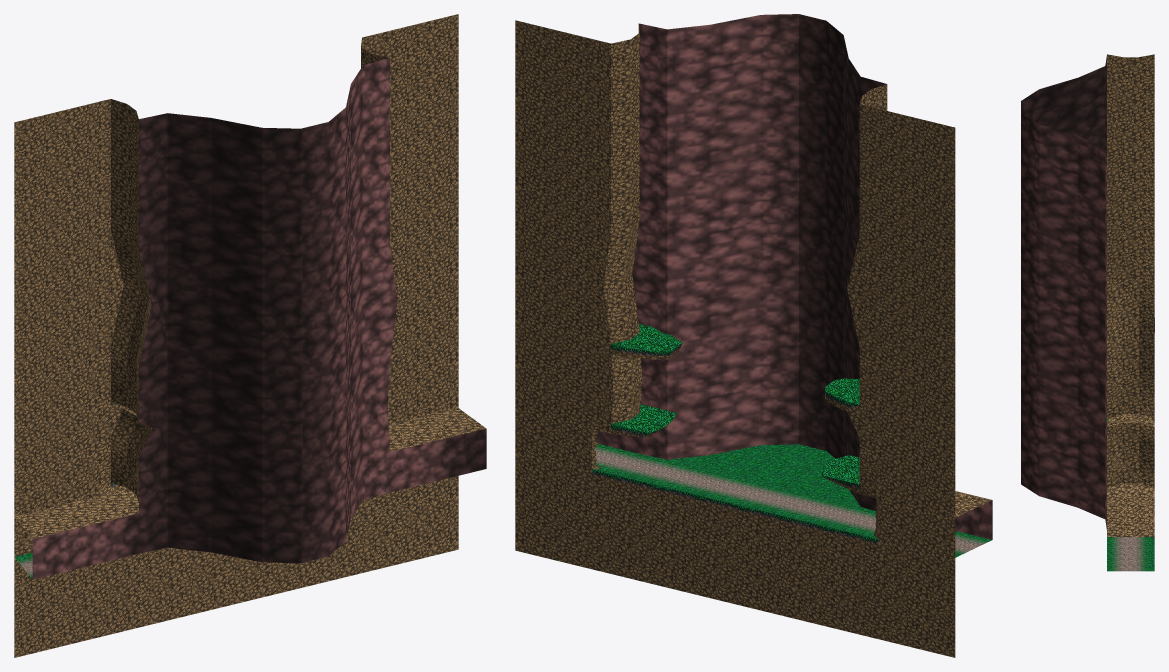
File: Area2_Room22.fbx
3 renders of one model, left to right at view 1: azimuth 30°, elevation 25°; view 2: azimuth 150°, elevation 25°; view 3: azimuth 270°, elevation 25°, orthographic. The views are drawn at different scales.
Visible parts, largest first — view 1: polySurface1; view 2: polySurface1; view 3: polySurface1.
Part boxes in pixels (x1,y1,x2,y2): polySurface1: (14,14,486,657); polySurface1: (515,14,992,657); polySurface1: (1021,54,1154,571).
Size of the model in its own units: 47 by 53 by 14.01.
